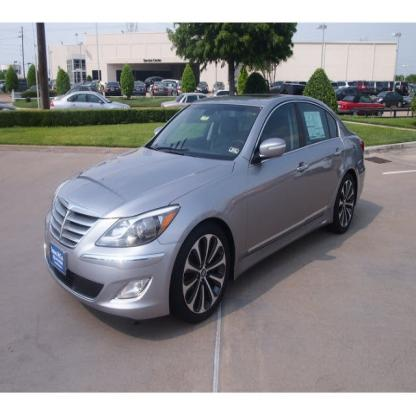Vehicle: (44, 96, 365, 328)
